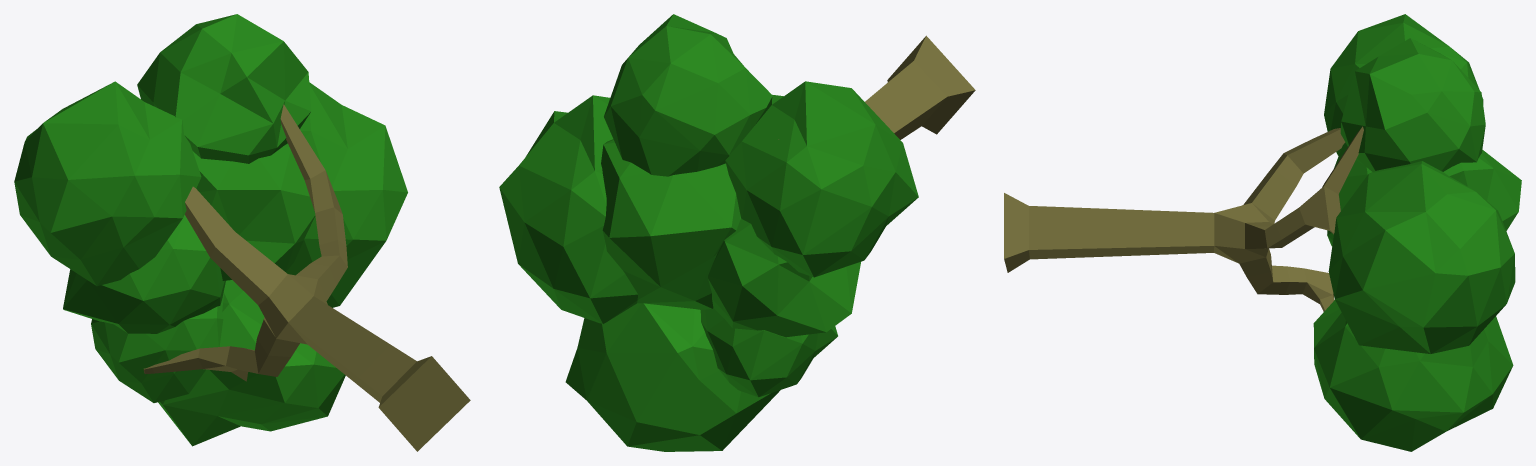
The model's file is low poly tree 4.fbx.
3 renders of one model, left to right at view 1: azimuth 30°, elevation 25°; view 2: azimuth 150°, elevation 25°; view 3: azimuth 270°, elevation 25°, orthographic. The views are drawn at different scales.
Parts seen in each view (by area): view 1: Icosphere, Plane; view 2: Icosphere, Plane; view 3: Icosphere, Plane.
Boxes of the visible parts, box(x1,y1,x2,y2) form: Icosphere: box(14, 14, 407, 446); Plane: box(143, 104, 470, 451); Icosphere: box(499, 14, 918, 451); Plane: box(778, 35, 975, 139); Icosphere: box(1313, 14, 1521, 451); Plane: box(1004, 126, 1363, 311).
Size of the model in its own units: 286 by 313 by 381.
